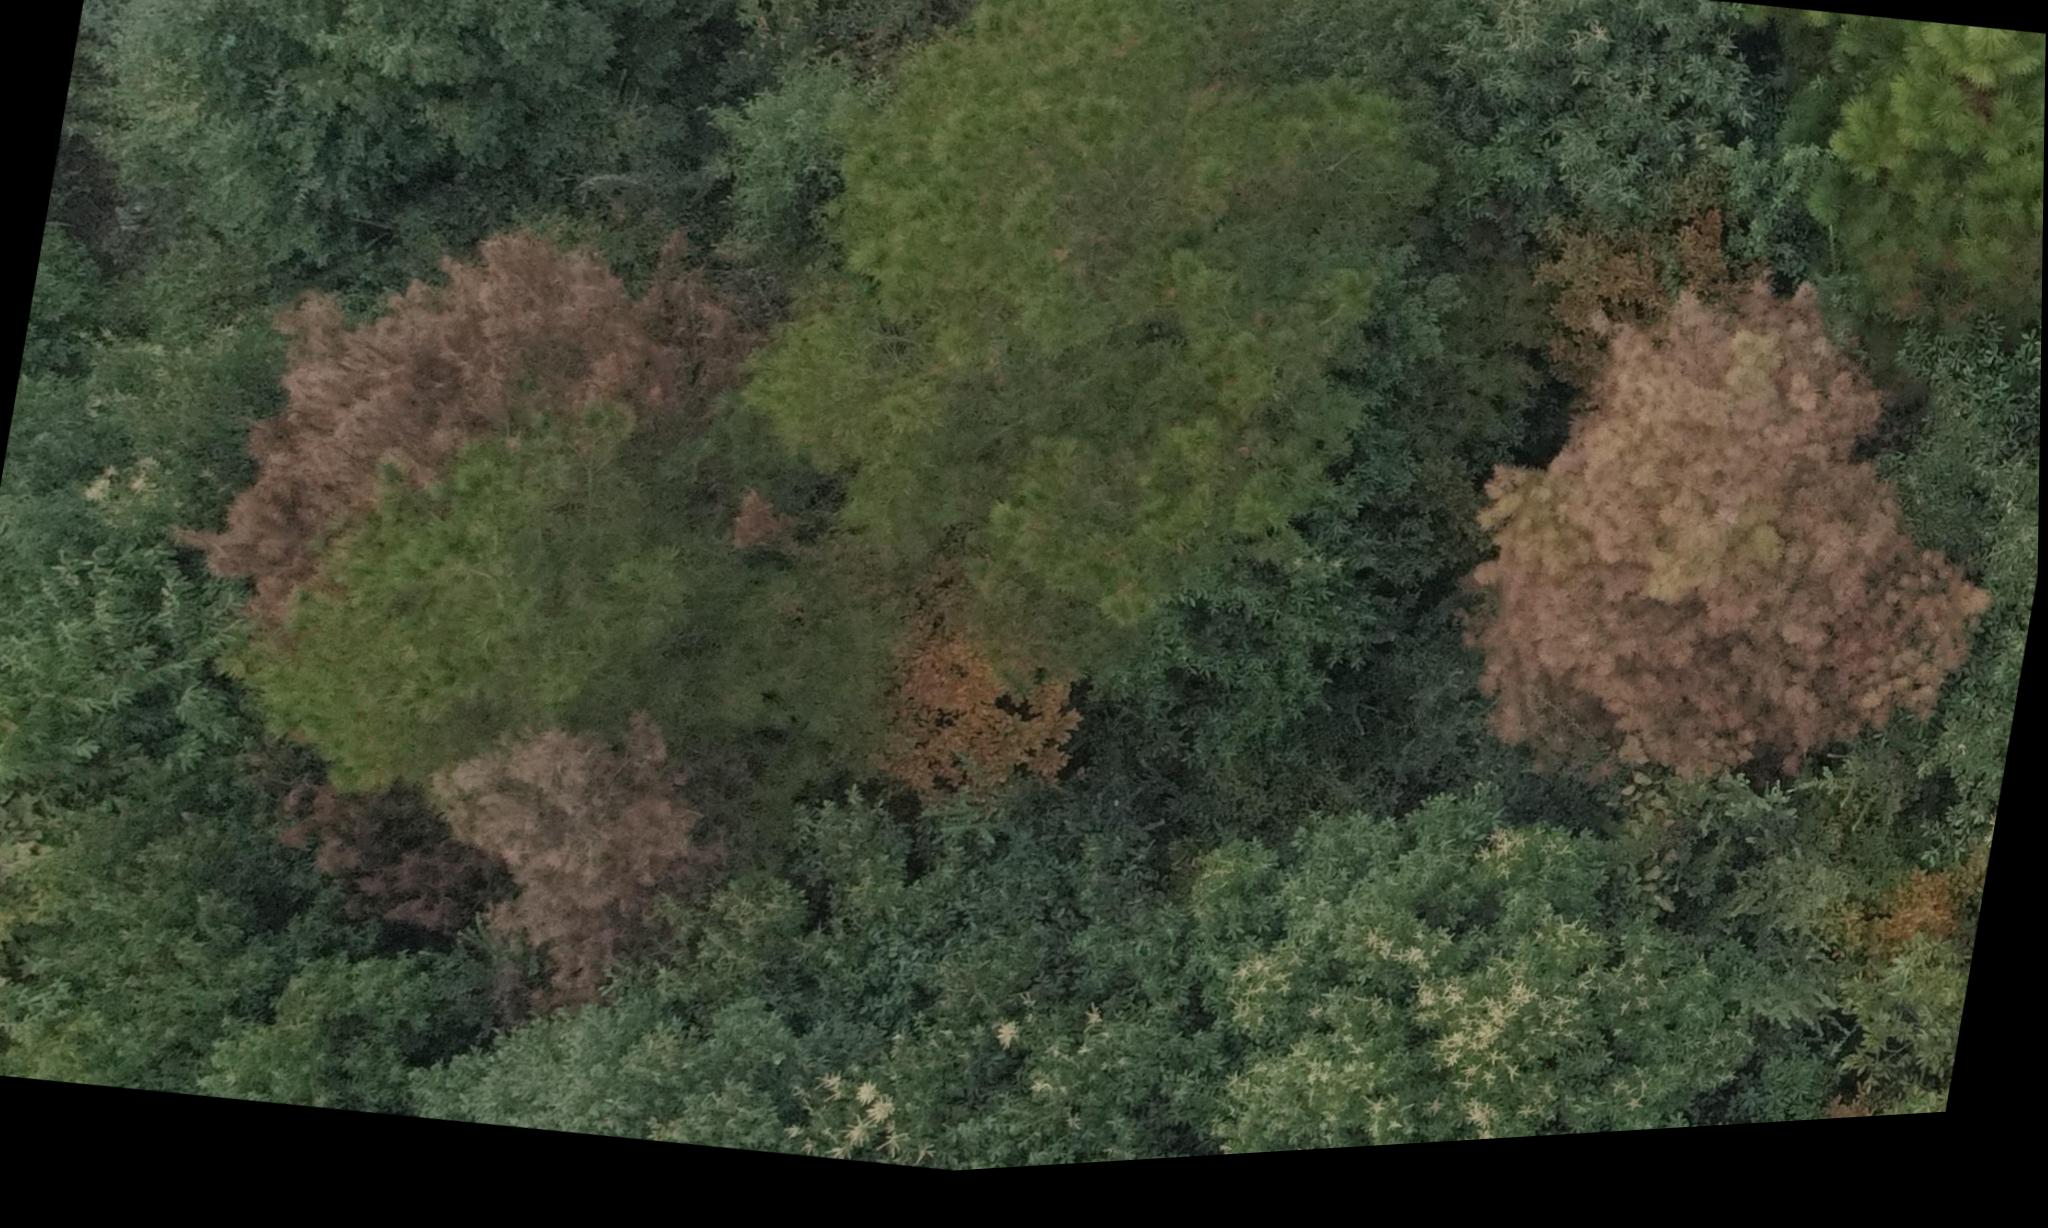heavy: (187, 173, 751, 687), (244, 664, 737, 1041)
light: (1437, 275, 2044, 867)
